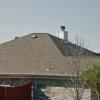Chimney: (50, 19, 80, 48)
